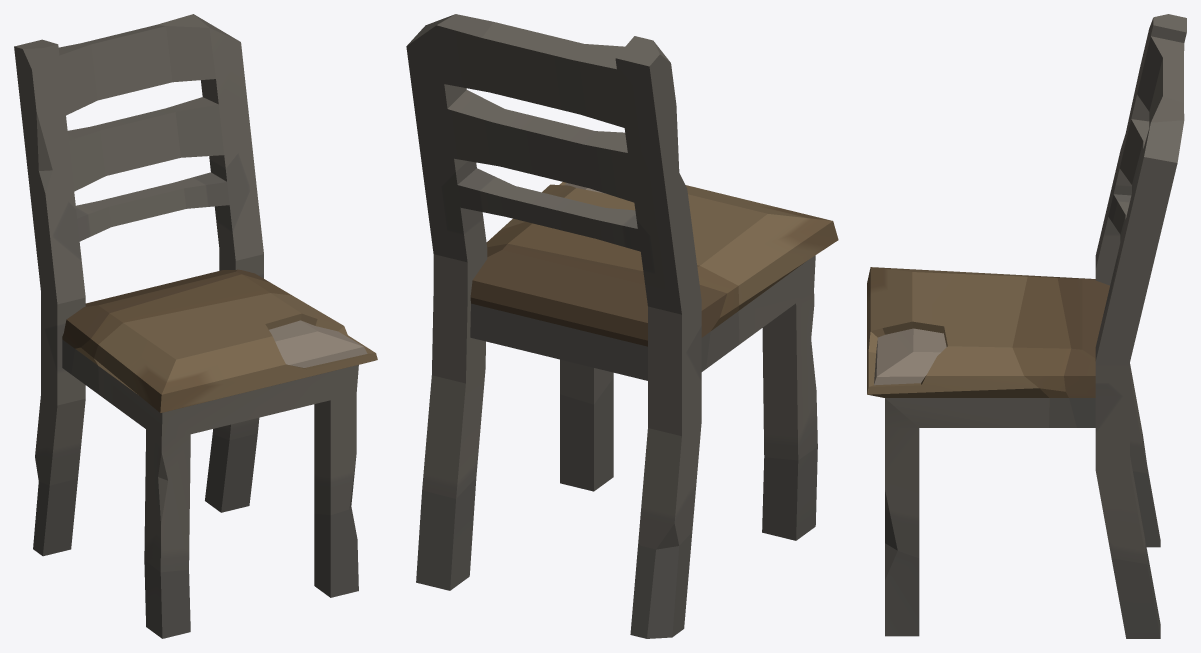
The model's file is SM_Prop_DiningChair_02.obj.
3 views of the same model, side by side, from view 1: azimuth 30°, elevation 25°; view 2: azimuth 150°, elevation 25°; view 3: azimuth 270°, elevation 25° (orthographic). The views are drawn at different scales.
Visible parts, largest first — view 1: SM_Prop_DiningChair_02_0; view 2: SM_Prop_DiningChair_02_0; view 3: SM_Prop_DiningChair_02_0.
Part boxes in pixels (x1,y1,x2,y2): SM_Prop_DiningChair_02_0: (14, 14, 377, 638); SM_Prop_DiningChair_02_0: (406, 14, 838, 638); SM_Prop_DiningChair_02_0: (867, 14, 1186, 638).
Size of the model in its own units: 0.5536 by 1.21 by 0.6692.
1 material, 1 textured.
